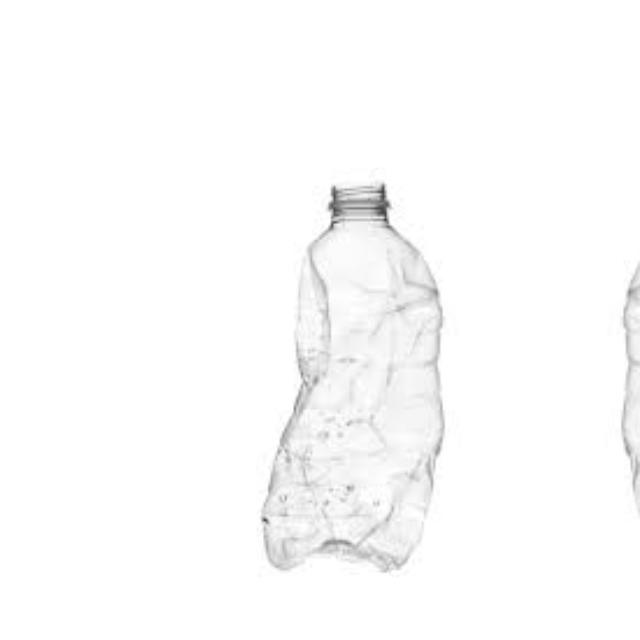Plastic: (237, 171, 455, 585), (611, 171, 640, 585)
